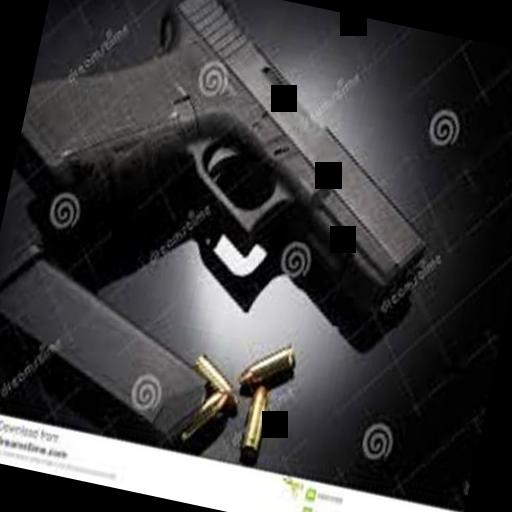Handgun: (0, 0, 464, 372)
